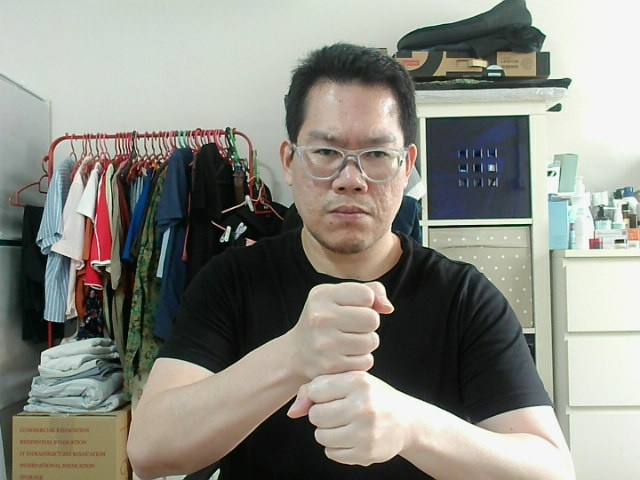get: (291, 291, 387, 362)
